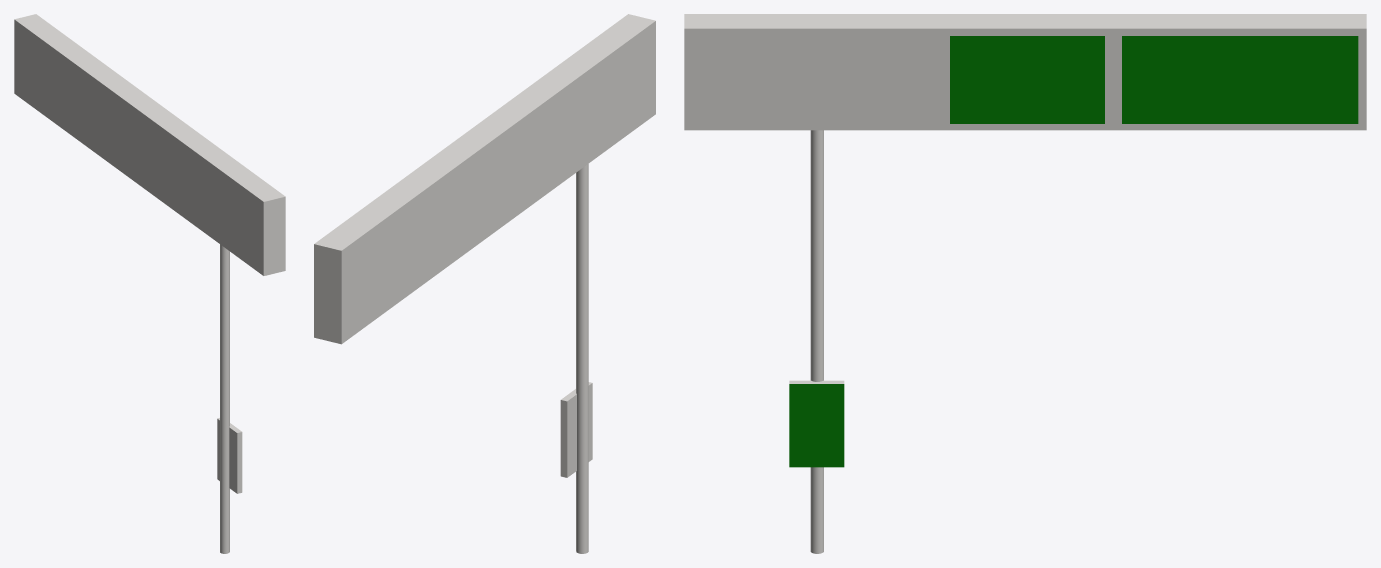
The picture shows the model from 3 angles, left to right: view 1: azimuth 30°, elevation 25°; view 2: azimuth 150°, elevation 25°; view 3: azimuth 270°, elevation 25°; orthographic projection. The views are drawn at different scales.
Visible parts, largest first — view 1: Layer0_001; view 2: Layer0_001; view 3: Layer0_001.
Part boxes in pixels (x1,y1,x2,y2): Layer0_001: (14, 14, 285, 553); Layer0_001: (314, 14, 655, 553); Layer0_001: (684, 14, 1366, 553).
Size of the model in its own units: 324 by 5474 by 6382.
